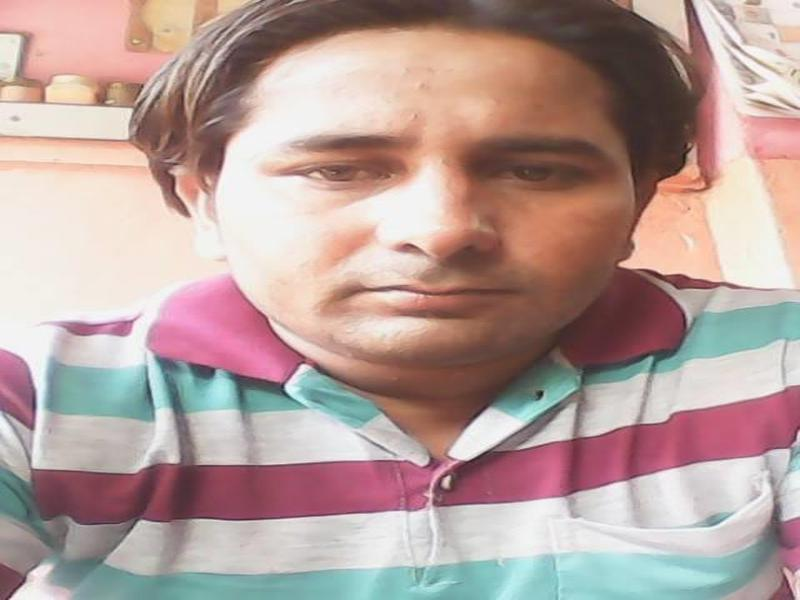without_mask: (231, 50, 627, 380)
